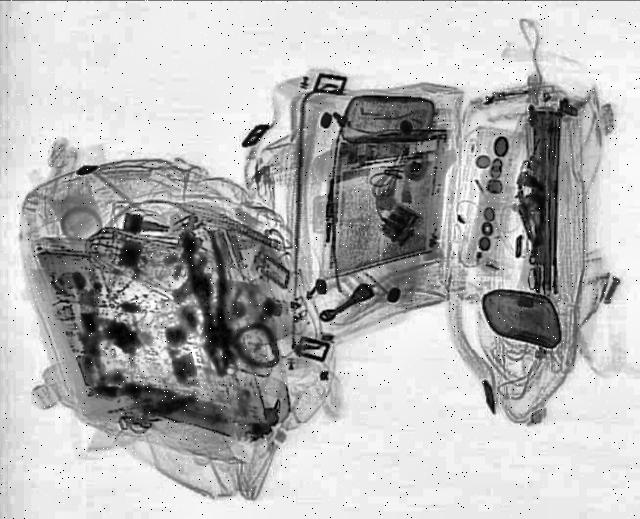Pliers: (176, 231, 244, 374)
